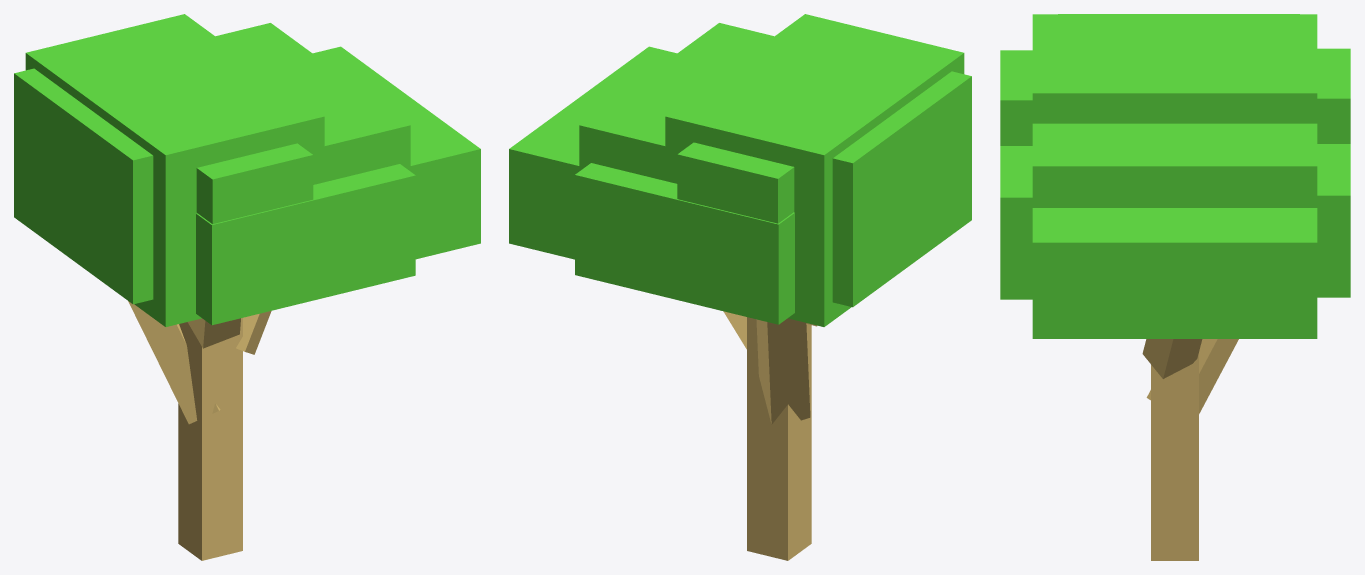
File: Tree.glb
3 views of the same model, side by side, from view 1: azimuth 30°, elevation 25°; view 2: azimuth 150°, elevation 25°; view 3: azimuth 270°, elevation 25° (orthographic).
Parts seen in each view (by area): view 1: Cube.004, Cube; view 2: Cube.004, Cube; view 3: Cube.004, Cube.
Boxes of the visible parts, <box> form: Cube.004: <box>14,14,480,326</box>; Cube: <box>128,301,271,560</box>; Cube.004: <box>509,14,971,326</box>; Cube: <box>723,311,816,560</box>; Cube.004: <box>1000,14,1350,338</box>; Cube: <box>1142,339,1238,560</box>.
Size of the model in its own units: 1.96 by 2.64 by 1.75.
